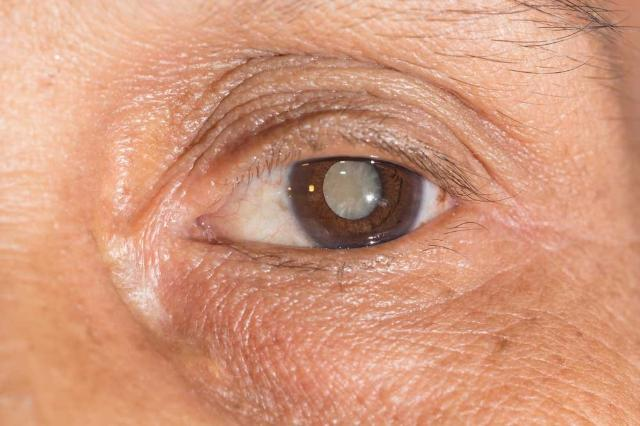eye: (283, 148, 423, 248)
